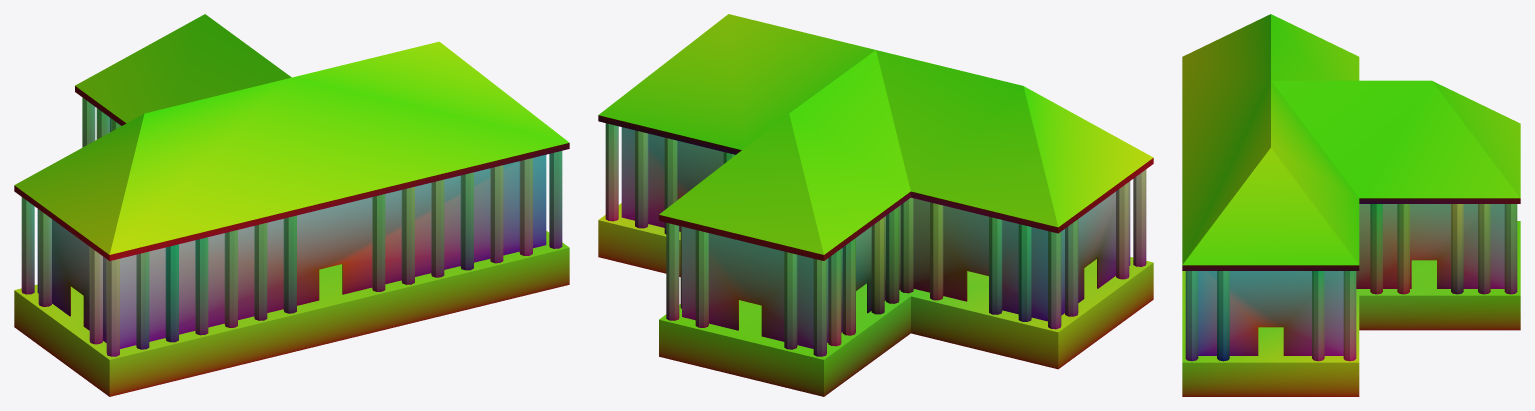
The model's file is MS_BuildingLarge_03_Col.fbx.
The picture shows the model from 3 angles, left to right: view 1: azimuth 30°, elevation 25°; view 2: azimuth 150°, elevation 25°; view 3: azimuth 270°, elevation 25°; orthographic projection. The views are drawn at different scales.
Visible parts, largest first — view 1: MS_BuildingLarge_03_Col; view 2: MS_BuildingLarge_03_Col; view 3: MS_BuildingLarge_03_Col.
Part boxes in pixels (x1=…): MS_BuildingLarge_03_Col: x1=14, y1=14, x2=569, y2=396; MS_BuildingLarge_03_Col: x1=598, y1=14, x2=1153, y2=396; MS_BuildingLarge_03_Col: x1=1182, y1=14, x2=1520, y2=396.
Bounding box in the file's own units: 7800 × 3700 × 5350.
